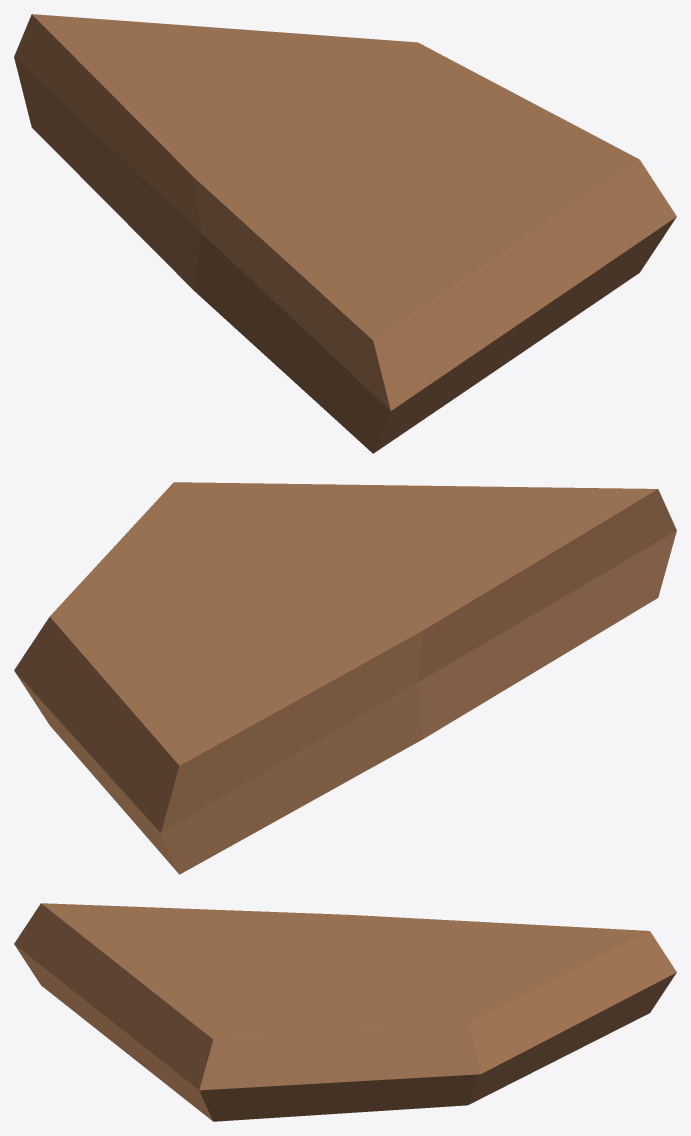
File: TreeMushroom1.fbx
The picture shows the model from 3 angles, top to bottom: view 1: azimuth 30°, elevation 25°; view 2: azimuth 150°, elevation 25°; view 3: azimuth 270°, elevation 25°; orthographic projection. The views are drawn at different scales.
Visible parts, largest first — view 1: Big_Log_Mushroom; view 2: Big_Log_Mushroom; view 3: Big_Log_Mushroom.
Part boxes in pixels (x1,y1,x2,y2): Big_Log_Mushroom: [14, 14, 676, 453]; Big_Log_Mushroom: [14, 482, 676, 874]; Big_Log_Mushroom: [14, 903, 676, 1121].
Bounding box in the file's own units: 1.01 × 0.2631 × 1.92.
